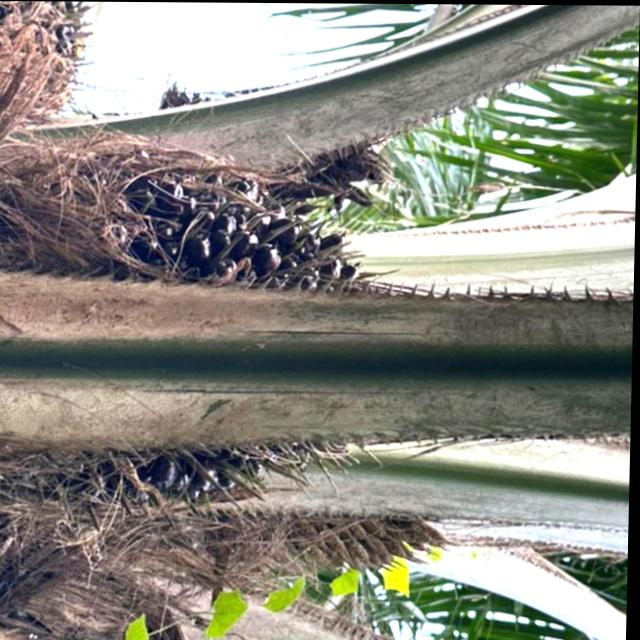ripe: (84, 159, 422, 493)
